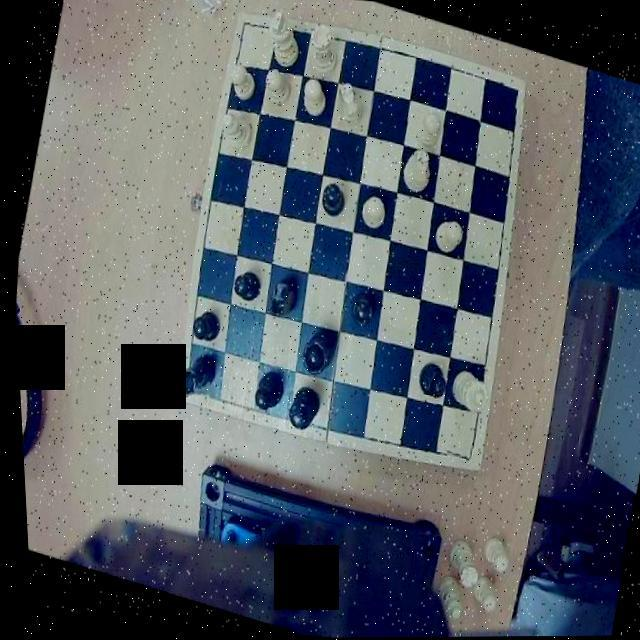chess-table-corners: (438, 433, 478, 472), (171, 368, 210, 406), (493, 77, 527, 112), (232, 12, 262, 45)
